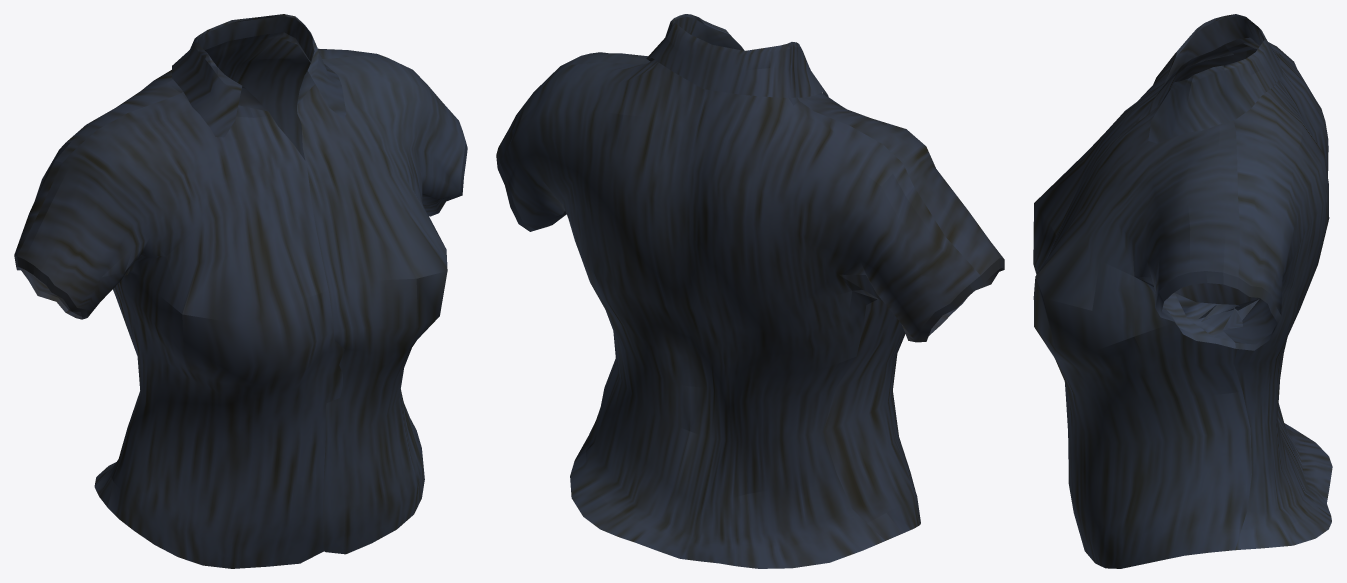
The model's file is SS_SMF.dae.
The picture shows the model from 3 angles, left to right: view 1: azimuth 30°, elevation 25°; view 2: azimuth 150°, elevation 25°; view 3: azimuth 270°, elevation 25°; orthographic projection. The views are drawn at different scales.
Parts seen in each view (by area): view 1: shirt01Mesh; view 2: shirt01Mesh; view 3: shirt01Mesh.
Part boxes in pixels (box(x1,y1,x2,y2)): shirt01Mesh: box(14, 14, 467, 568); shirt01Mesh: box(496, 14, 1004, 568); shirt01Mesh: box(1033, 14, 1332, 568).
Size of the model in its own units: 4.9 by 5.14 by 2.83.
